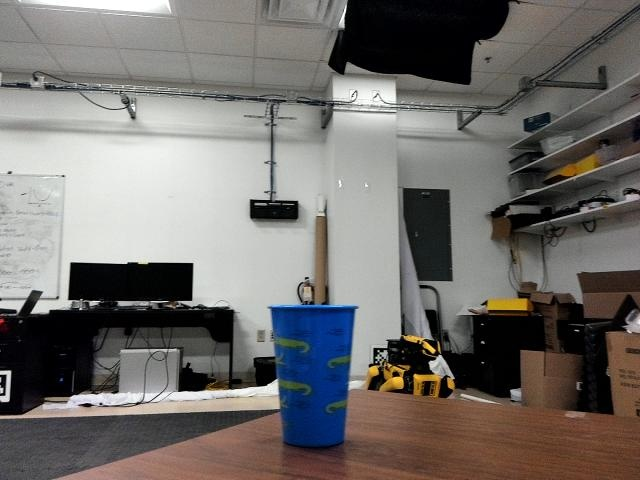water_cup: (265, 299, 360, 451)
